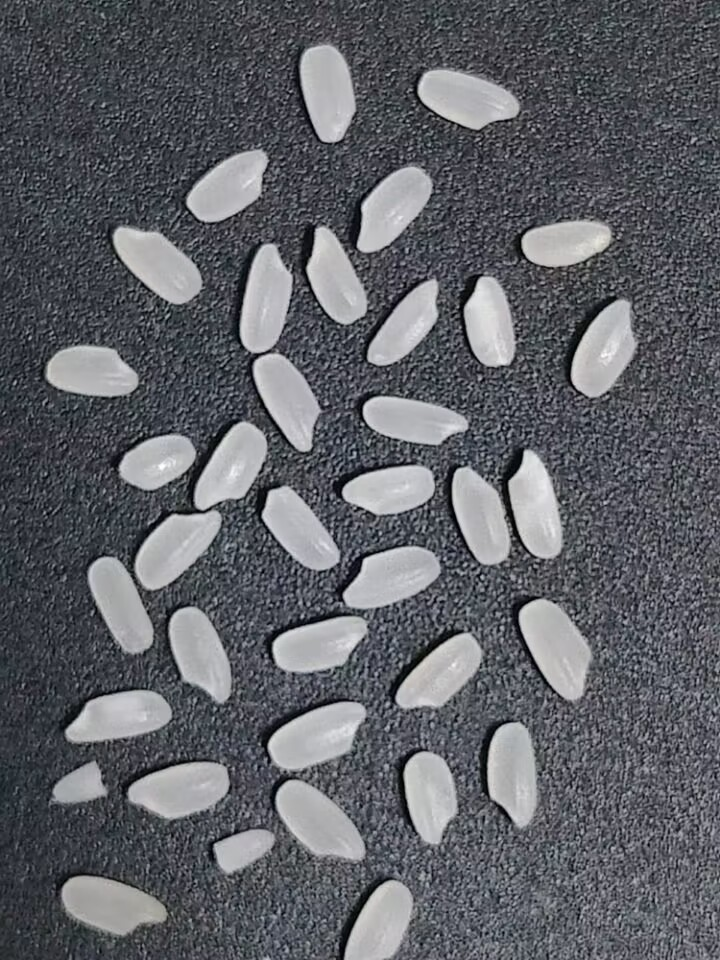broken: (211, 829, 276, 877), (51, 761, 108, 804)
rice: (260, 483, 346, 577), (266, 696, 369, 773), (246, 354, 323, 456), (132, 508, 227, 590), (161, 601, 232, 708), (393, 630, 484, 713), (129, 757, 236, 827), (276, 779, 366, 862), (189, 417, 269, 510), (519, 599, 591, 701), (62, 683, 173, 749), (85, 556, 158, 655), (111, 227, 202, 304), (357, 166, 433, 254), (263, 613, 374, 673), (570, 298, 636, 398), (398, 748, 464, 848), (484, 719, 544, 827), (61, 875, 167, 936), (305, 224, 369, 325), (366, 279, 439, 367), (357, 392, 469, 449), (507, 448, 564, 559), (186, 147, 269, 223), (458, 272, 519, 375), (342, 545, 441, 608), (418, 69, 520, 130), (237, 241, 293, 352), (451, 466, 509, 565), (332, 461, 438, 515), (299, 44, 356, 143), (344, 879, 413, 959), (46, 345, 139, 397), (118, 434, 197, 492), (521, 220, 612, 268)
